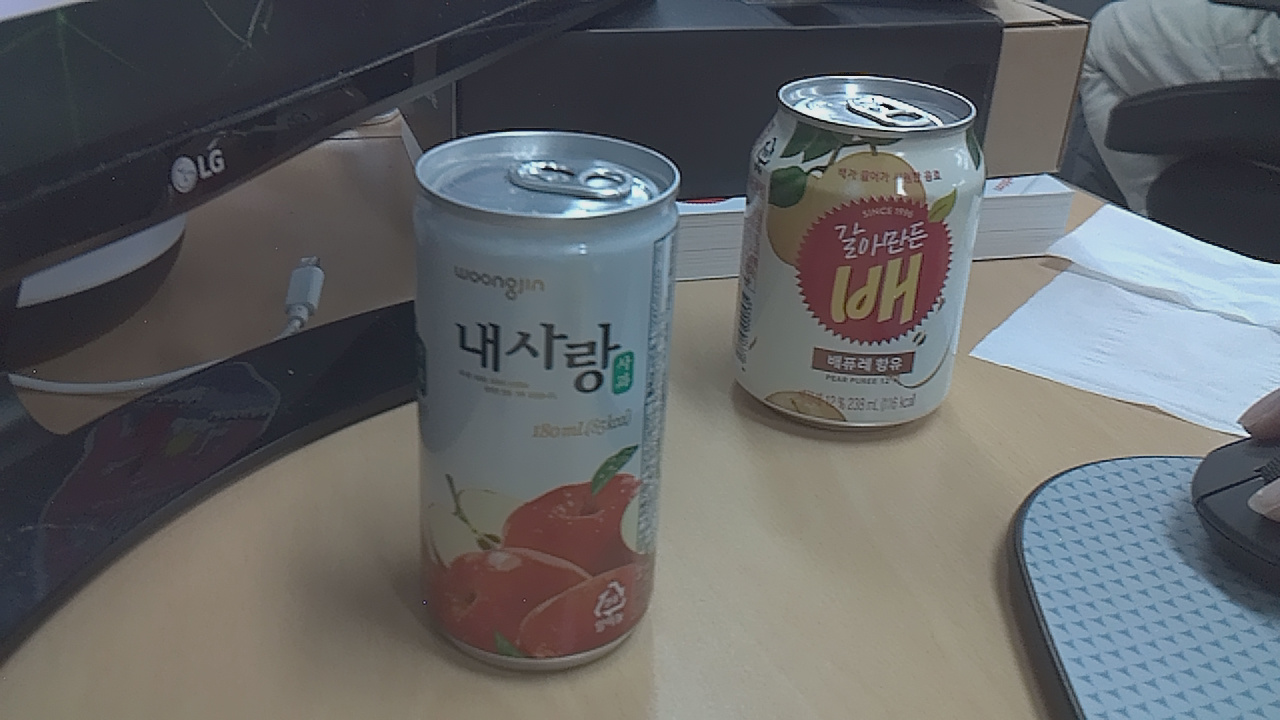IdH (pear juice): (731, 49, 960, 394)
mylove apple: (435, 109, 725, 660)
